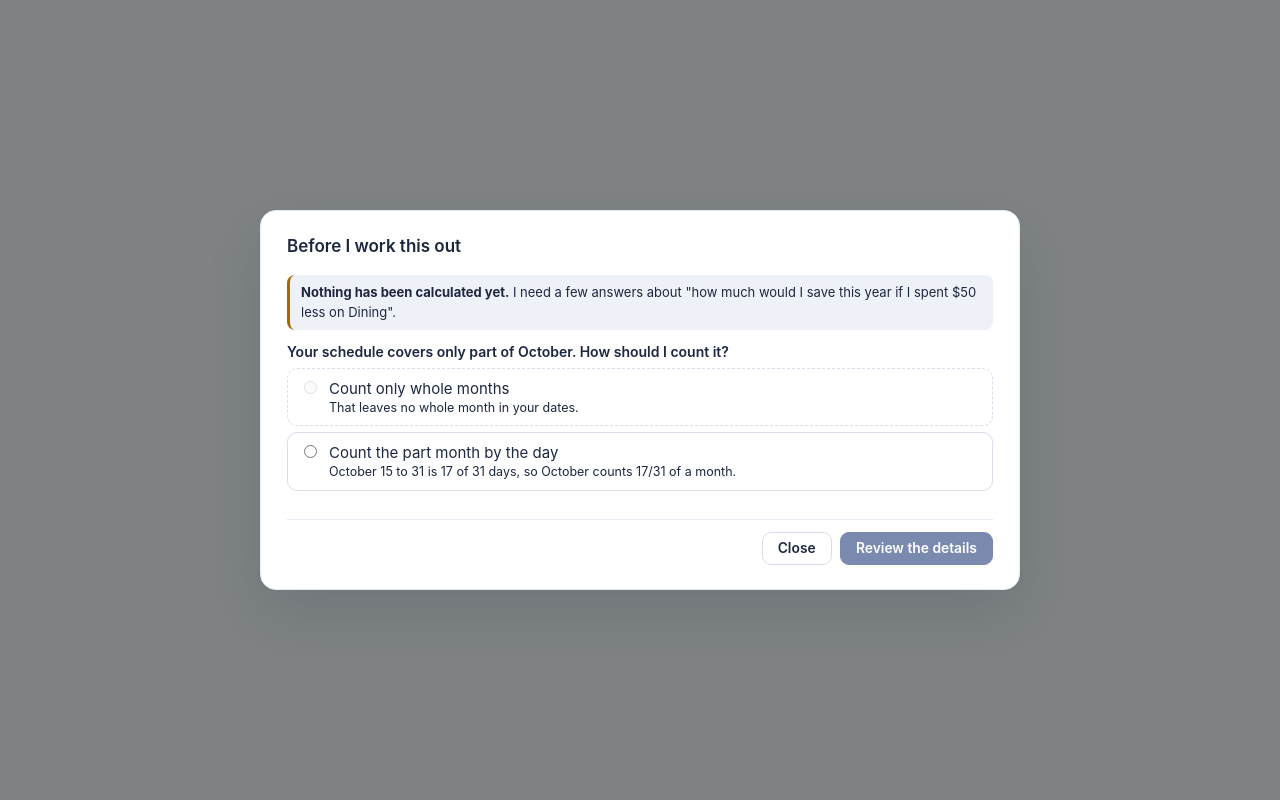
Test: the choices screen › when no whole month is left the whole-months option is unavailable and says why
Check: the 1st radio button is disabled, box [304,381,317,394]
Click the 2nd radio button: (310,452) [304,445,317,458]
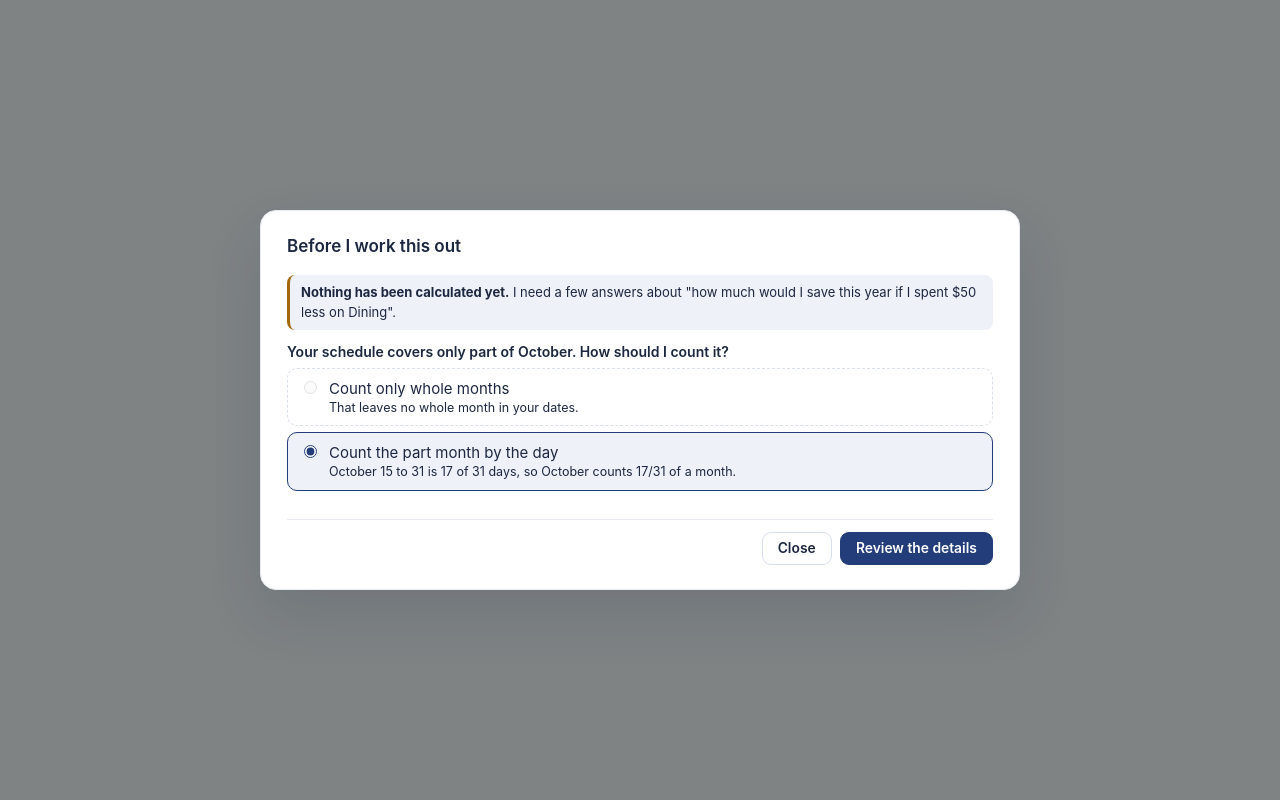
Check: the button "Review the details" is enabled, box [840,532,993,565]
